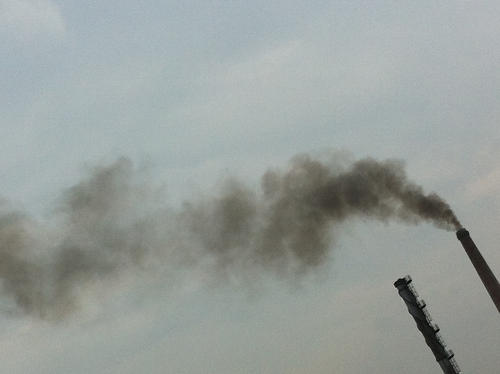smoke: (246, 153, 459, 274)
